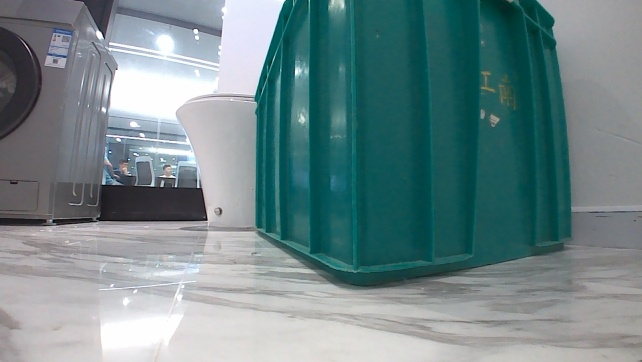toilet: (170, 89, 263, 230)
washing_machine: (0, 0, 122, 225)
